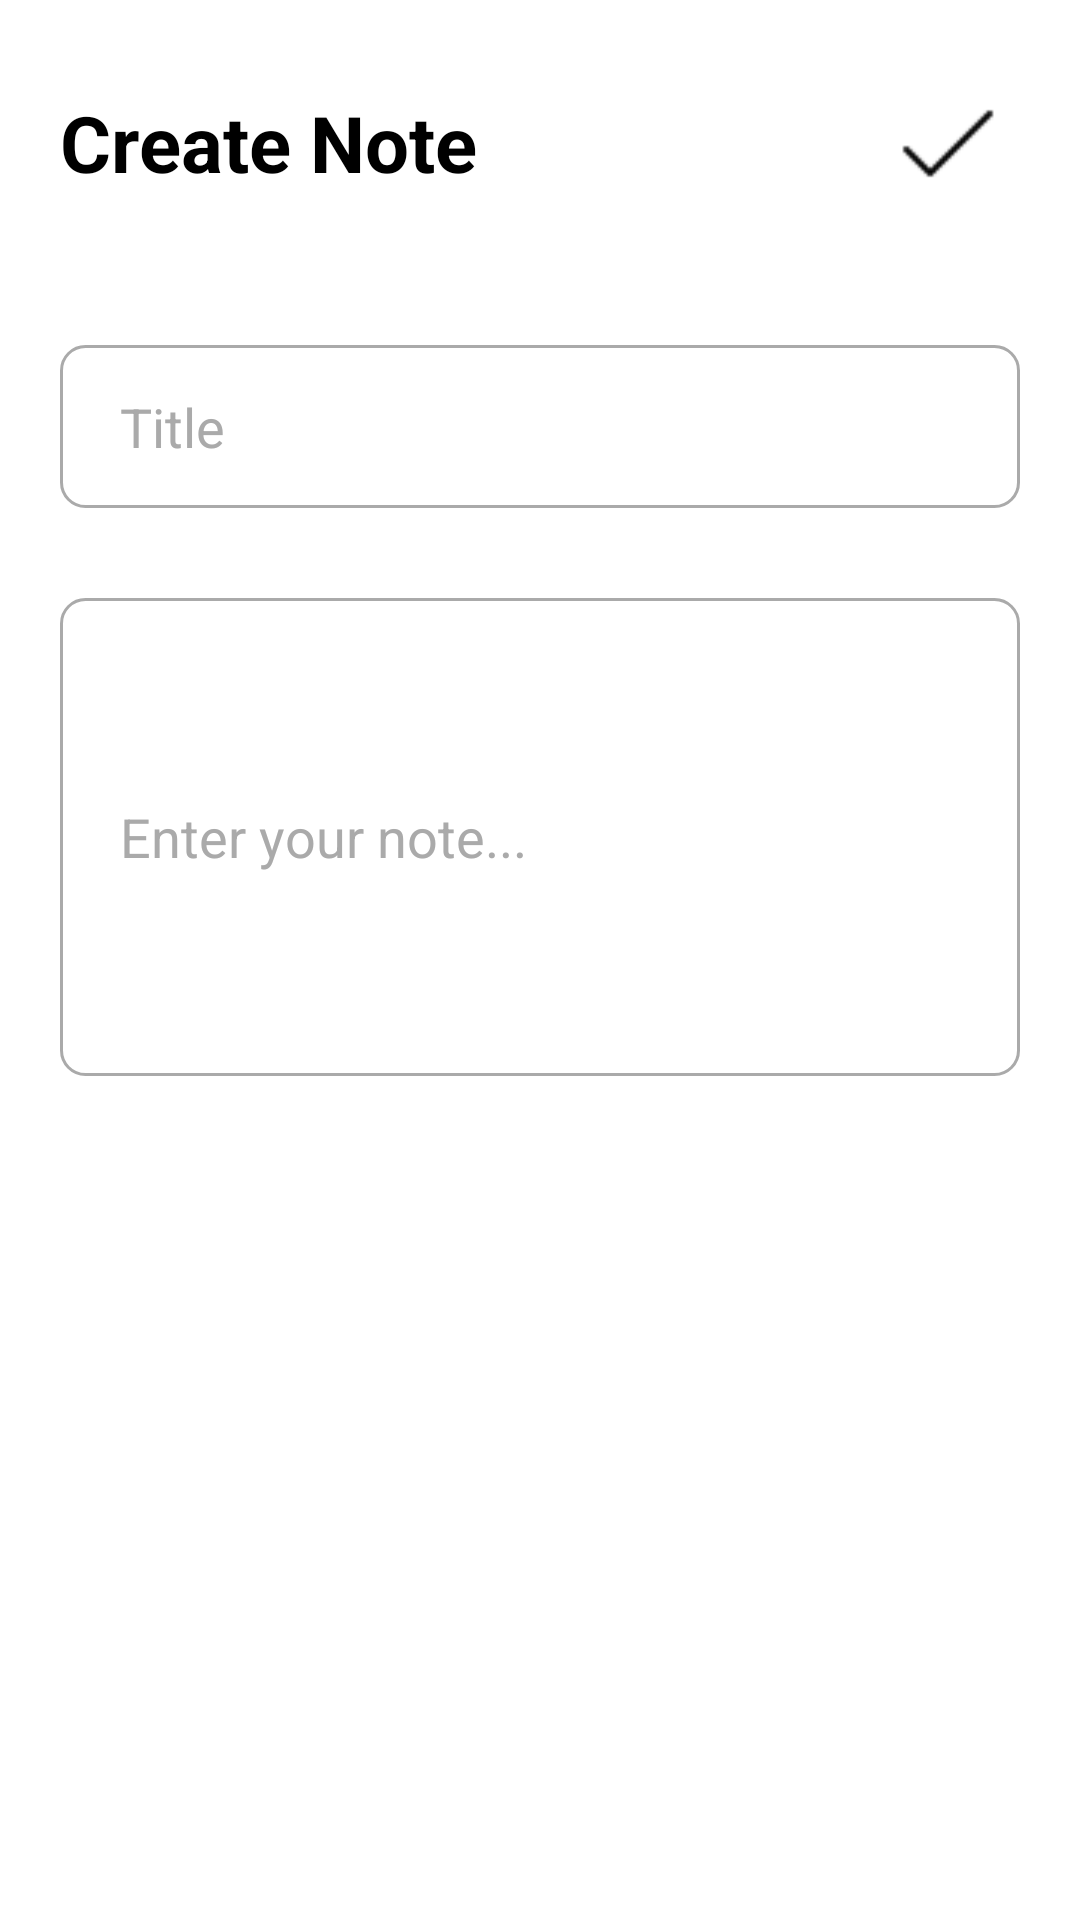

Icon click points for this 1080*1920 phone screenshot, format [x,y]:
tick: [948,143]
